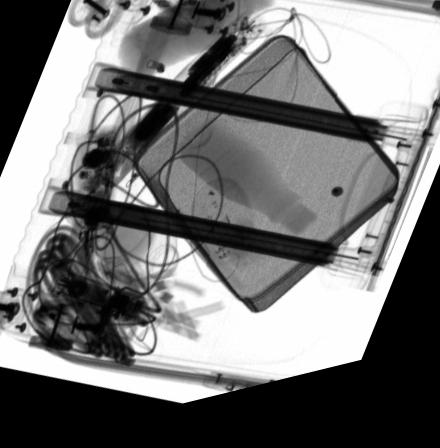Baton: (93, 20, 266, 195)
